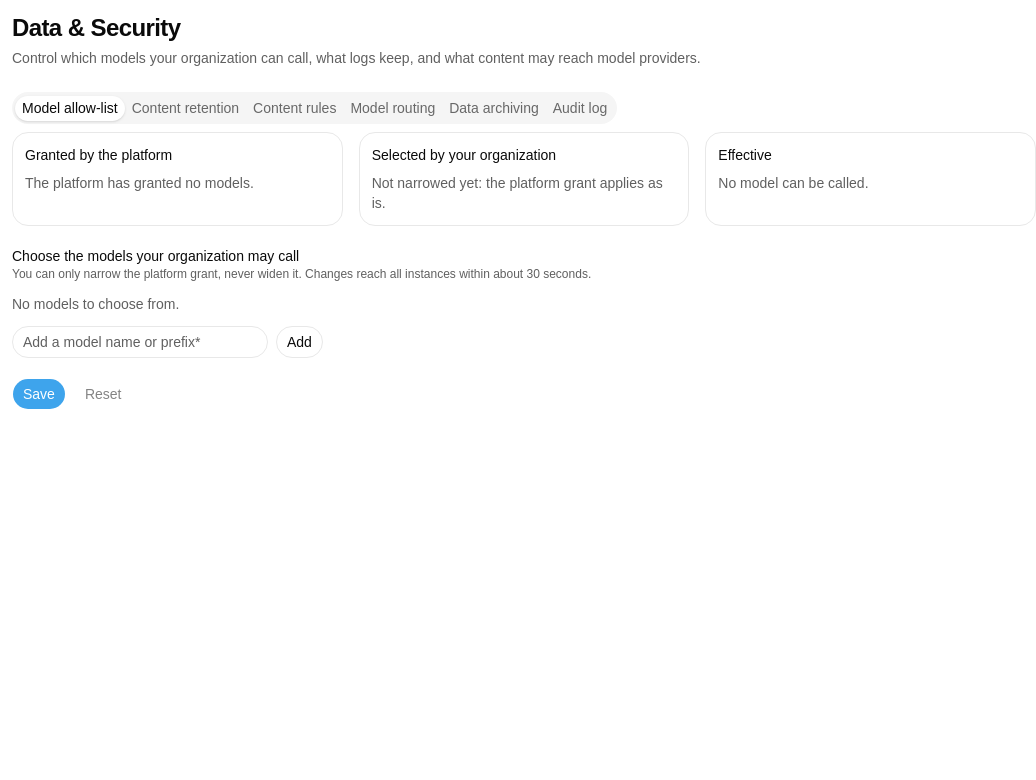
it: content retention › per-key retention PUTs to the key and reports the effective mode
Click the tab "Content retention".
click(185, 108)  # box [125, 96, 246, 120]
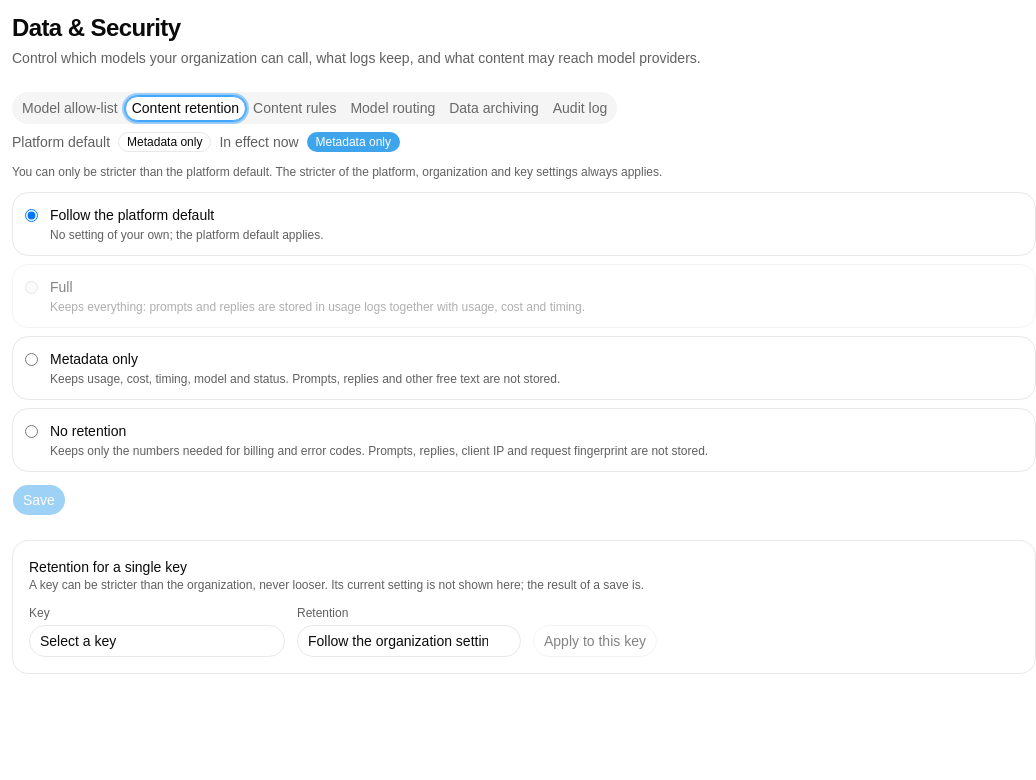
Select "prod (sk-ab****yz) - Bob" in the dropdown labelled "Key" at (157, 641), box [29, 625, 285, 657]
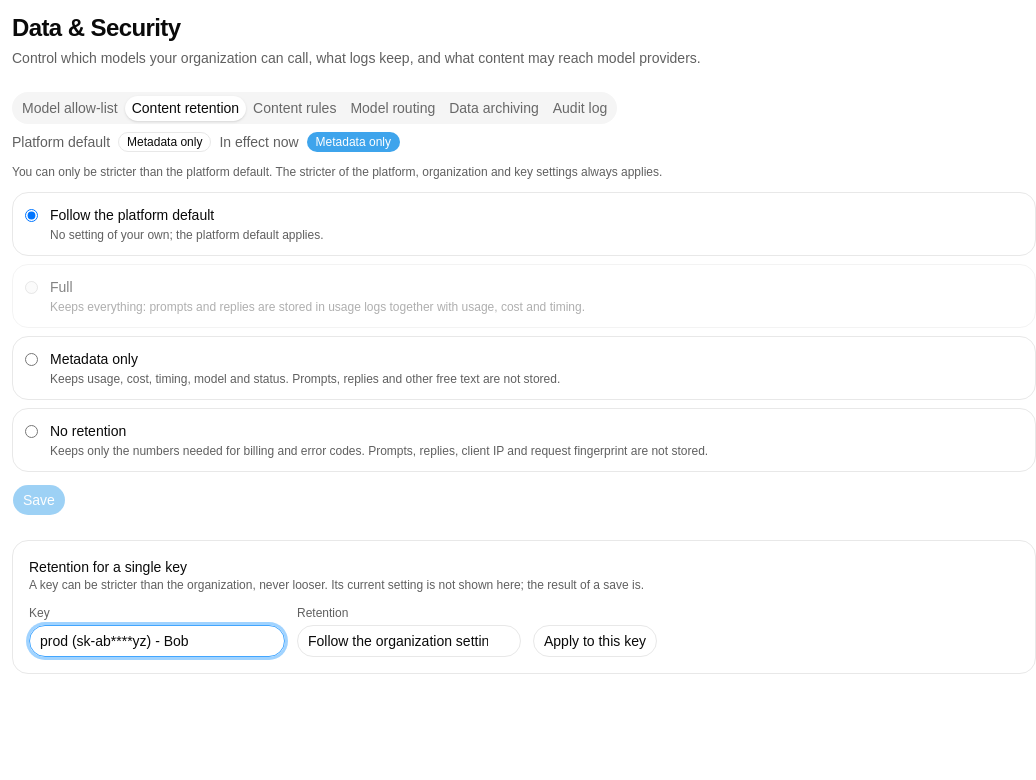
Select "No retention" in the dropdown labelled "Retention" at (409, 641), box [297, 625, 521, 657]
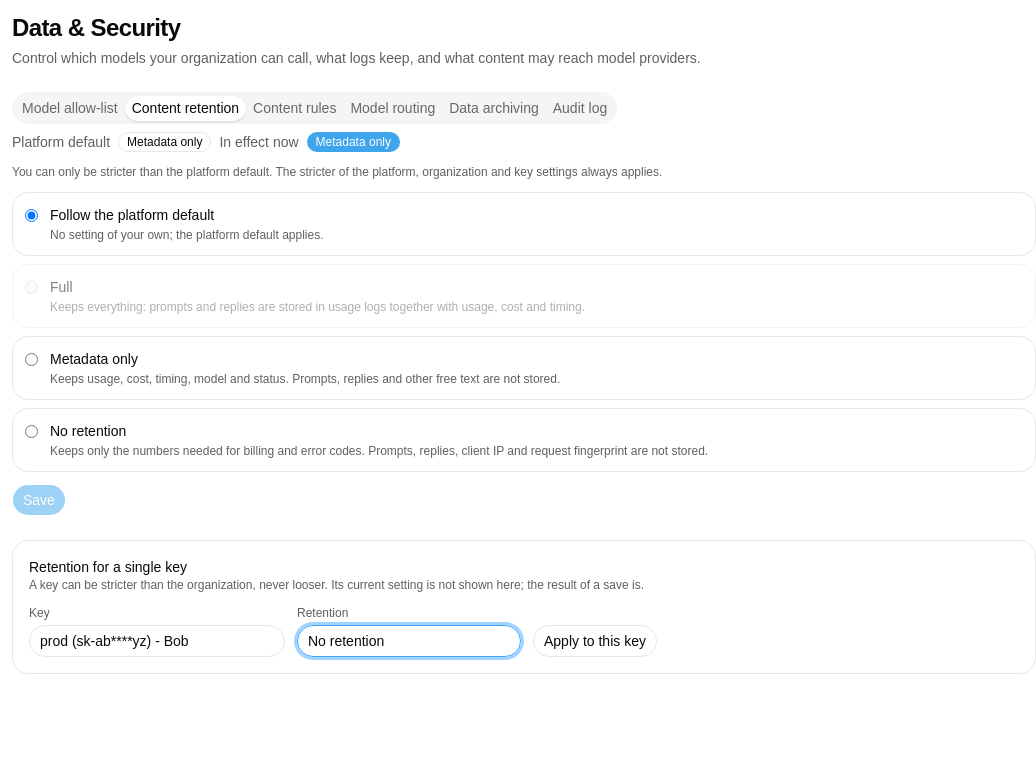
Click the button "Apply to this key".
click(595, 641)  # box [533, 625, 657, 657]
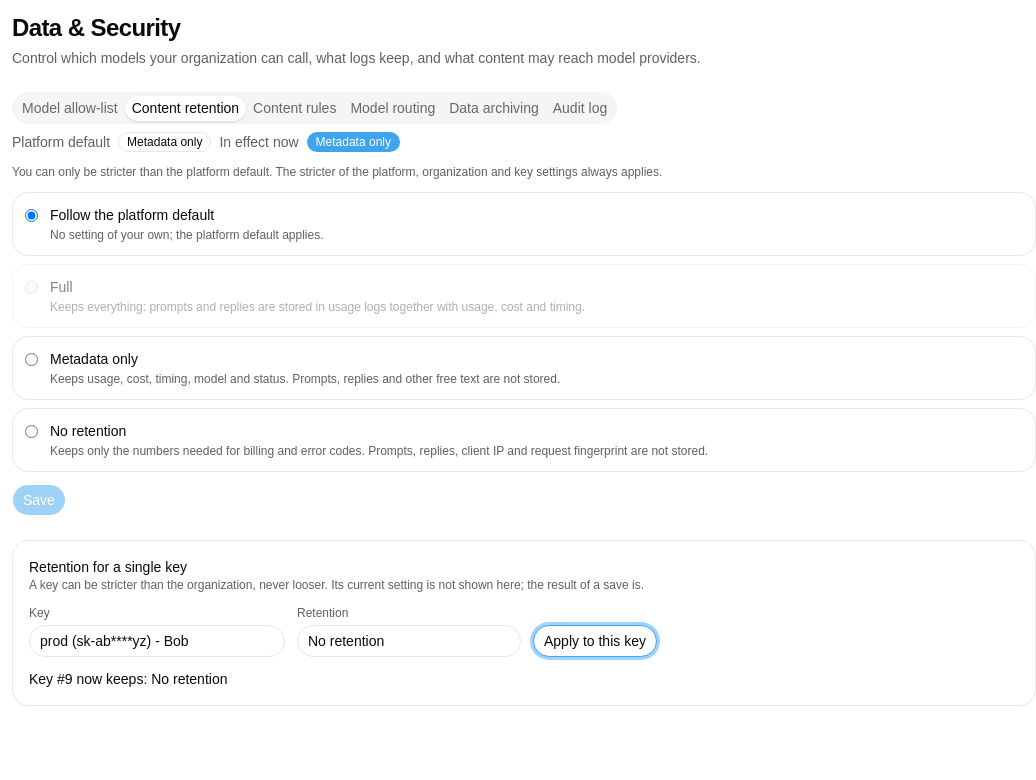
Check: the text "Key #9 now keeps: No retention" is shown, box [29, 671, 228, 687]
